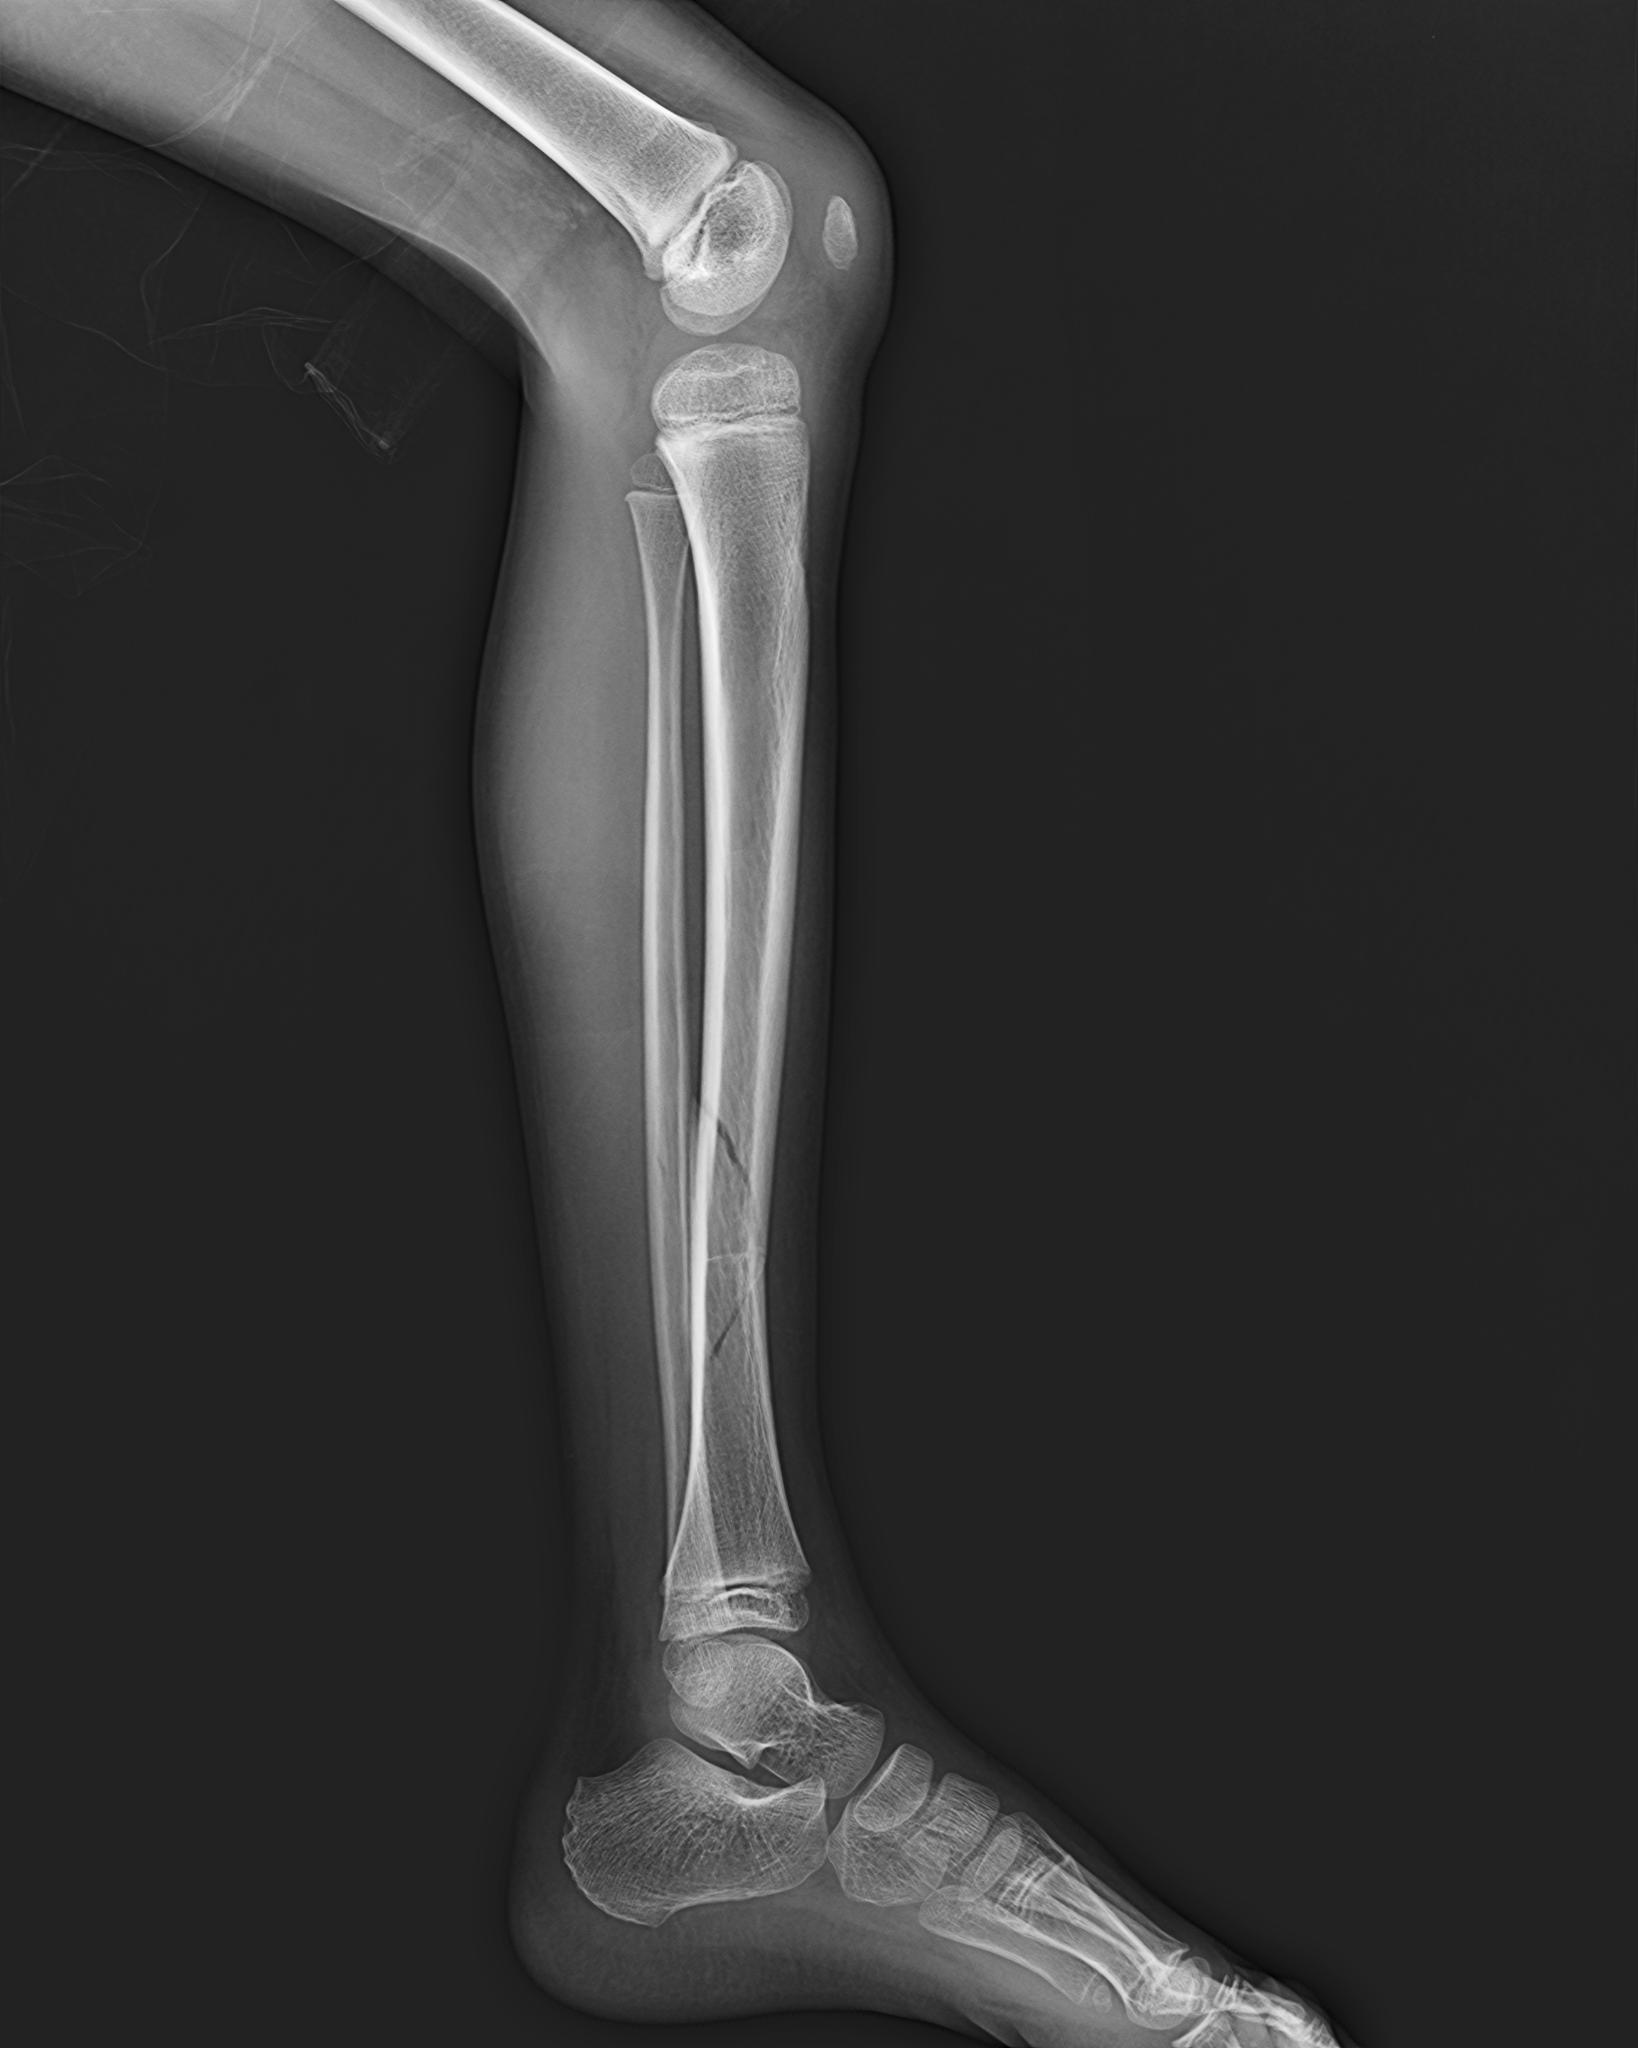fractured: (692, 1234, 772, 1399), (699, 1067, 779, 1225)
